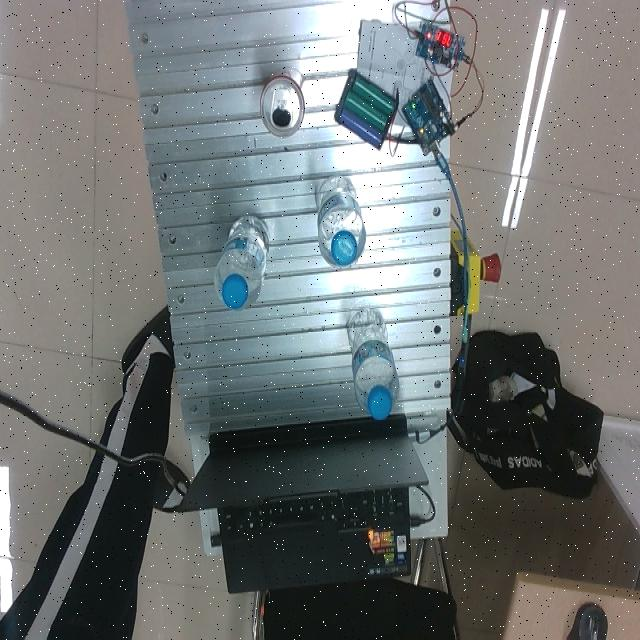coca: (260, 72, 306, 139)
lavie: (348, 308, 399, 420), (215, 216, 270, 311), (317, 178, 366, 270)
